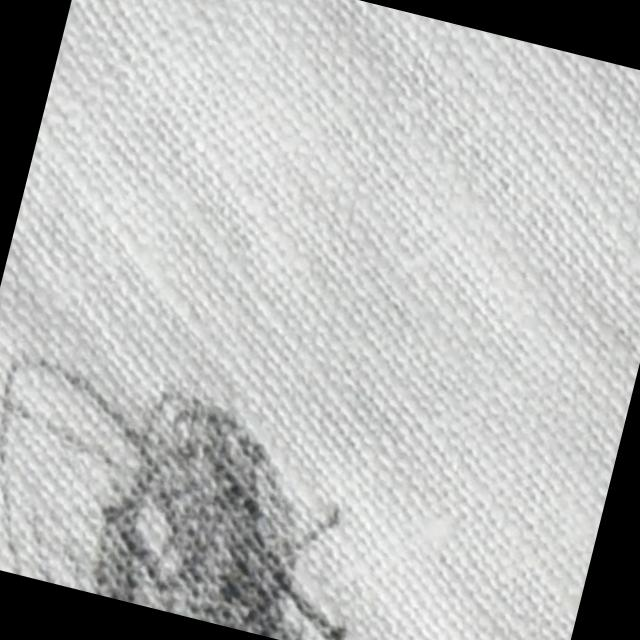Stain: (0, 343, 407, 640)
